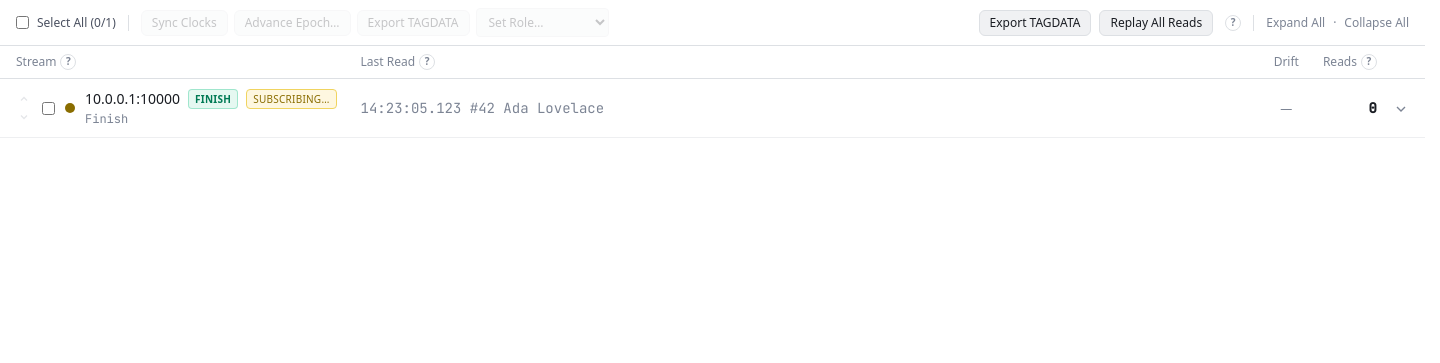
StreamsTab › shows 'Metrics unavailable' when no metrics data
Click the button "10.0.0.1:10000": click(133, 99) [0,78,1425,138]
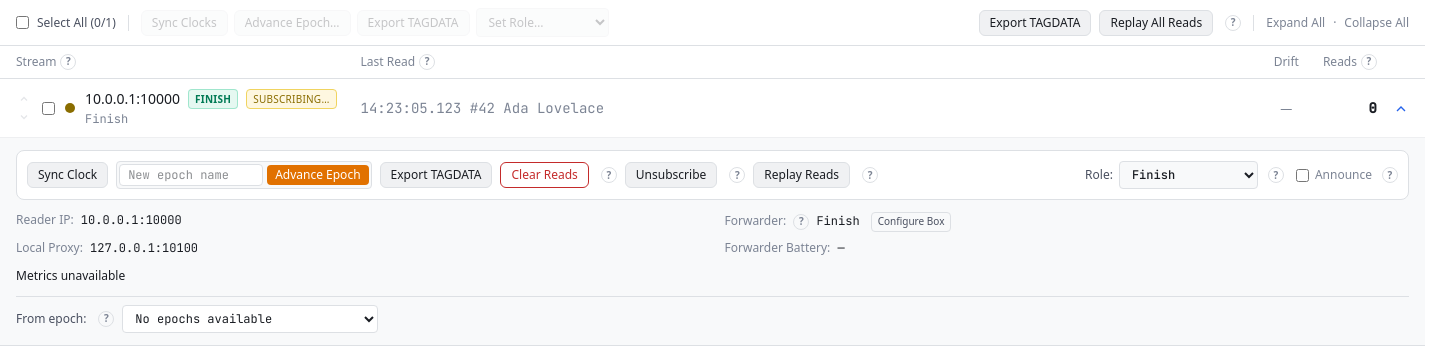
Now the text "Metrics unavailable" is shown, box [16,267,125,284]
